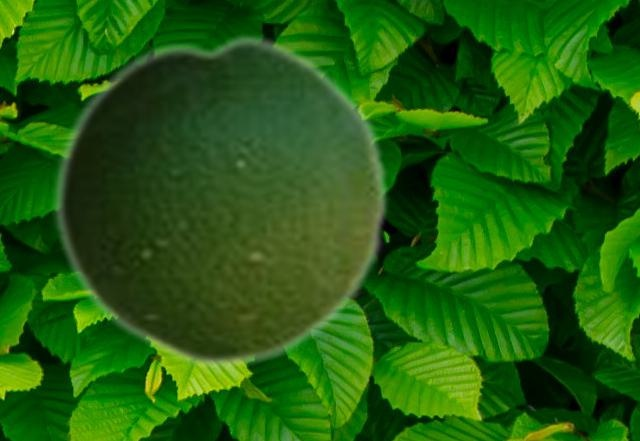dalandan: (52, 30, 389, 371)
